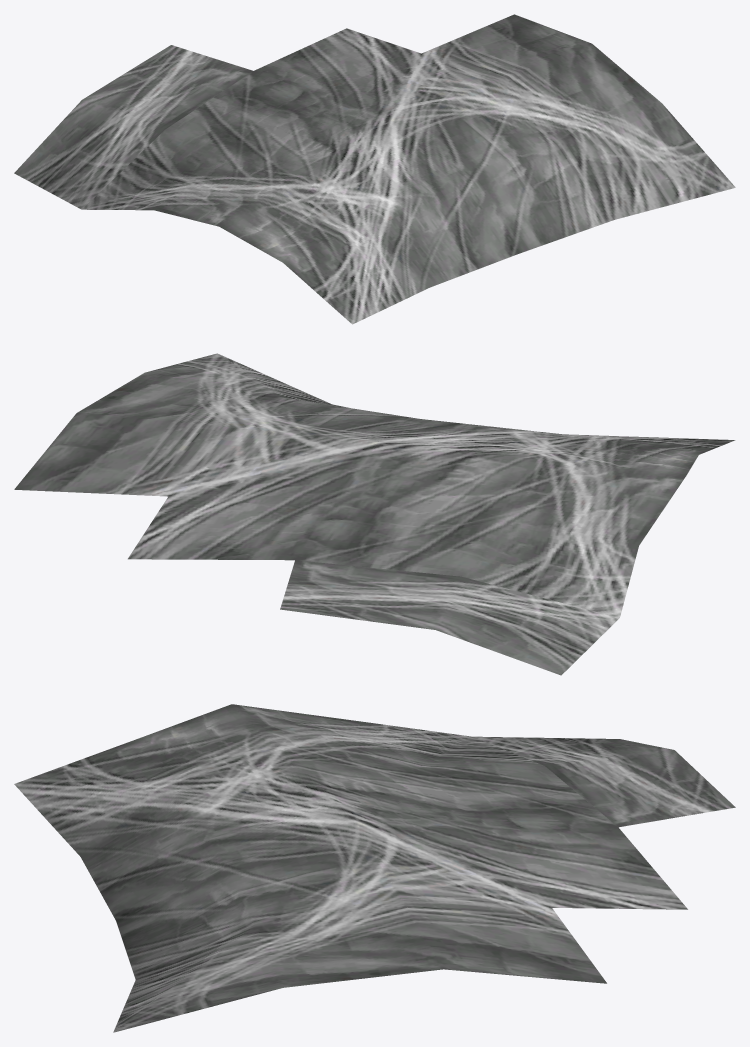
File: SWORDLIGHT20_PS-AREA01_38.fbx
The picture shows the model from 3 angles, top to bottom: view 1: azimuth 30°, elevation 25°; view 2: azimuth 150°, elevation 25°; view 3: azimuth 270°, elevation 25°; orthographic projection. The views are drawn at different scales.
Parts seen in each view (by area): view 1: SWORDLIGHT20_PS-AREA01_38; view 2: SWORDLIGHT20_PS-AREA01_38; view 3: SWORDLIGHT20_PS-AREA01_38.
Boxes of the visible parts, x1,y1,x2,y2 form: SWORDLIGHT20_PS-AREA01_38: (14, 14, 735, 324); SWORDLIGHT20_PS-AREA01_38: (14, 353, 735, 675); SWORDLIGHT20_PS-AREA01_38: (14, 704, 735, 1032).
Bounding box in the file's own units: 67379 × 8428 × 66797.
Materials: 1 (1 with a texture image).
